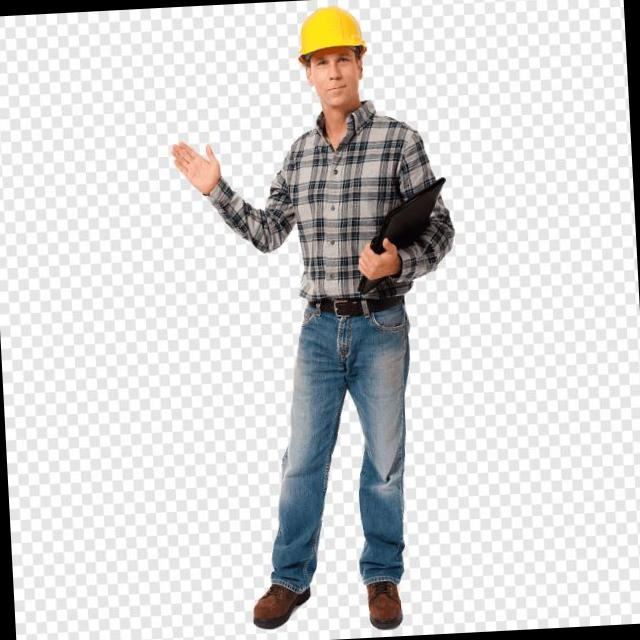Helmet: (292, 0, 381, 58)
